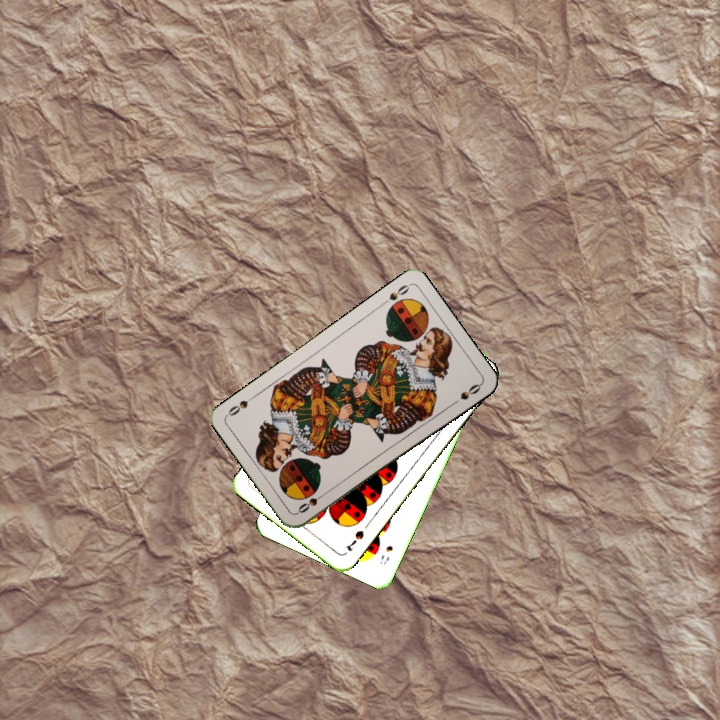S7: (341, 526, 366, 553)
S8: (376, 541, 395, 567)
SO: (293, 488, 329, 516), (377, 281, 412, 309)
